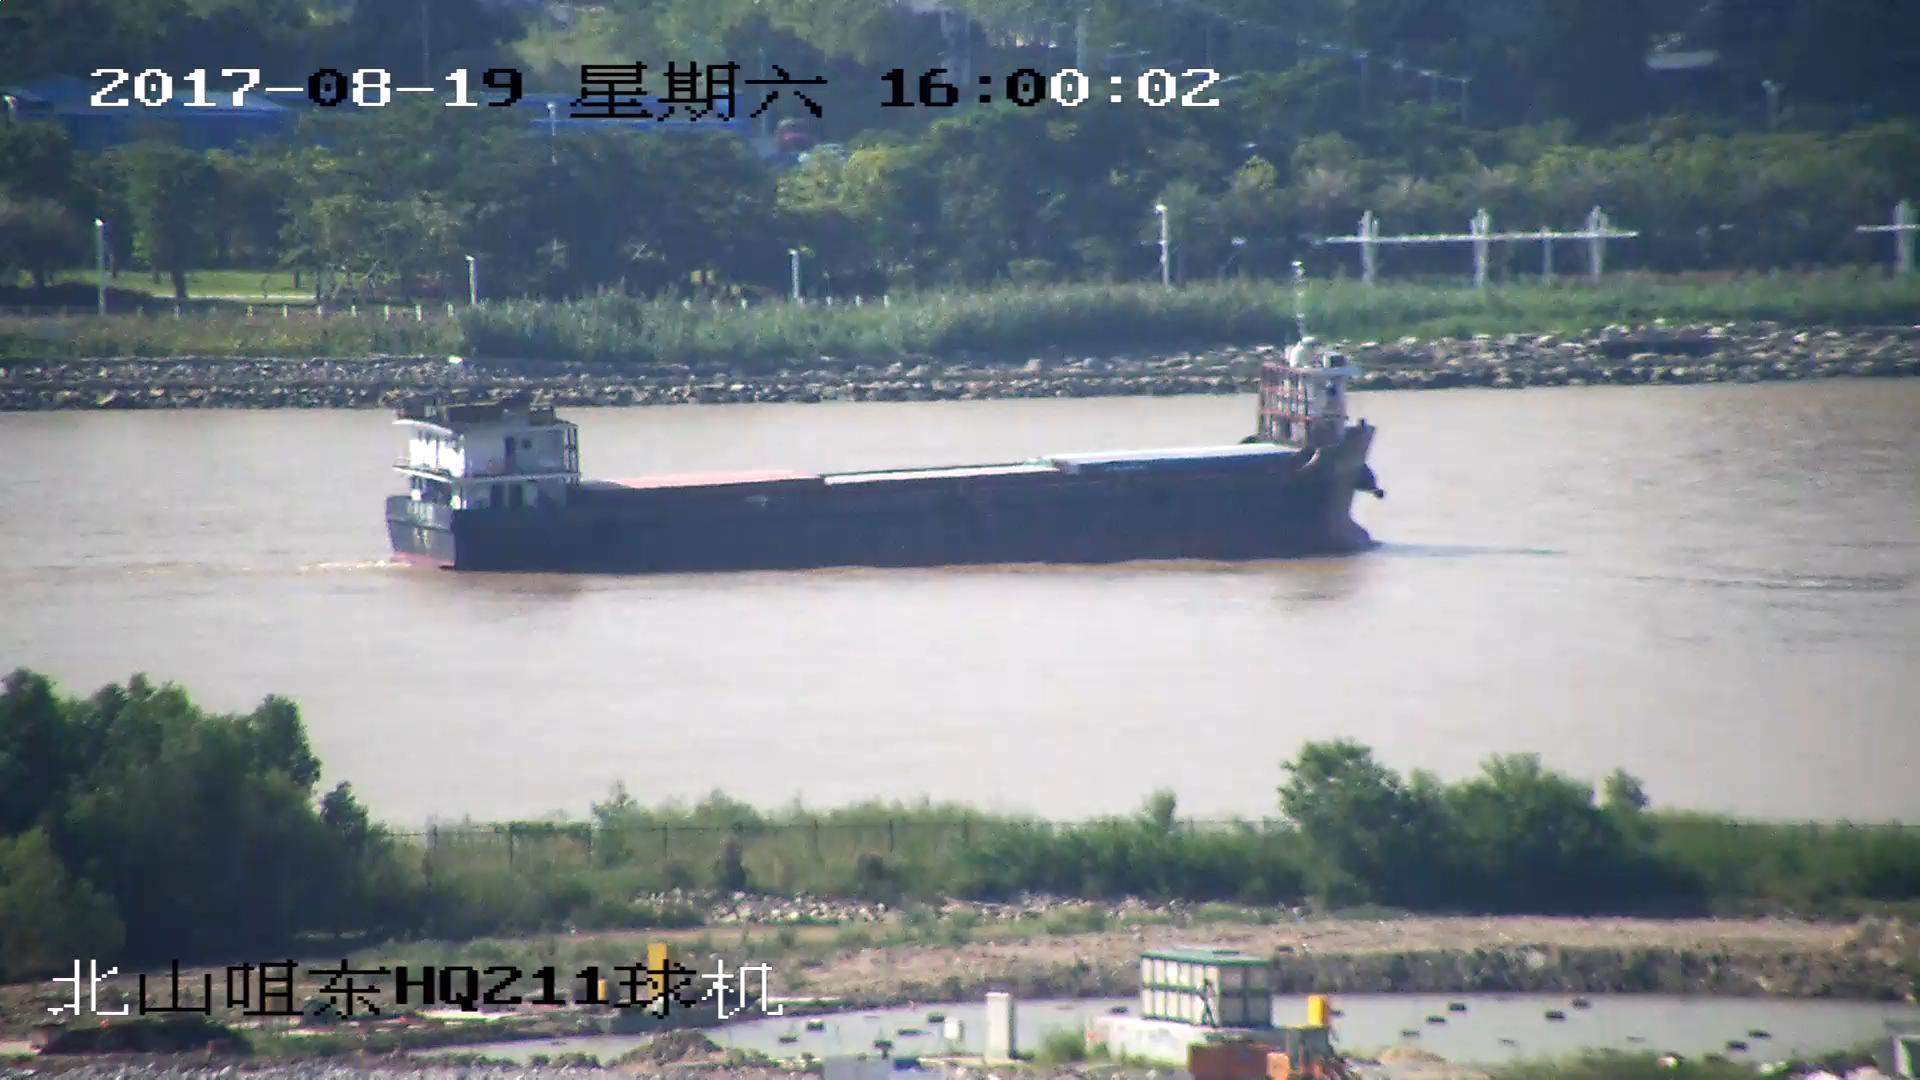Ship: (382, 328, 1395, 571)
